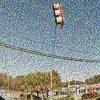traffic lights: (53, 3, 63, 26)
